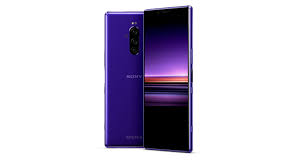sony: (104, 2, 196, 156)
